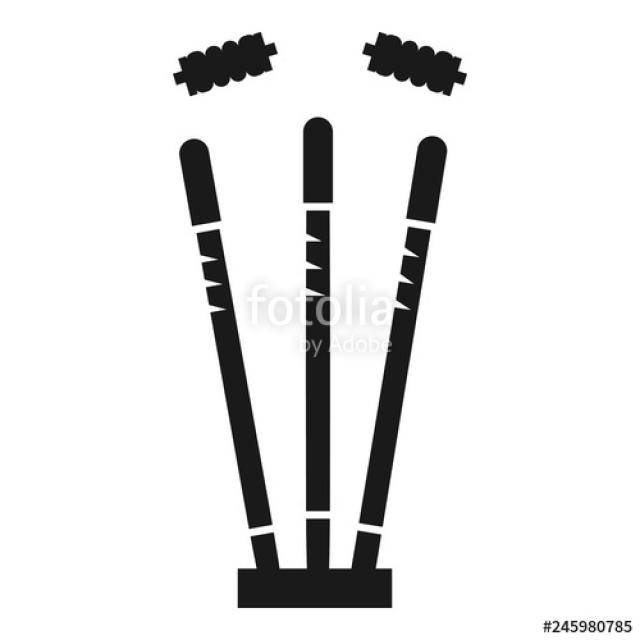stump: (167, 23, 477, 565)
